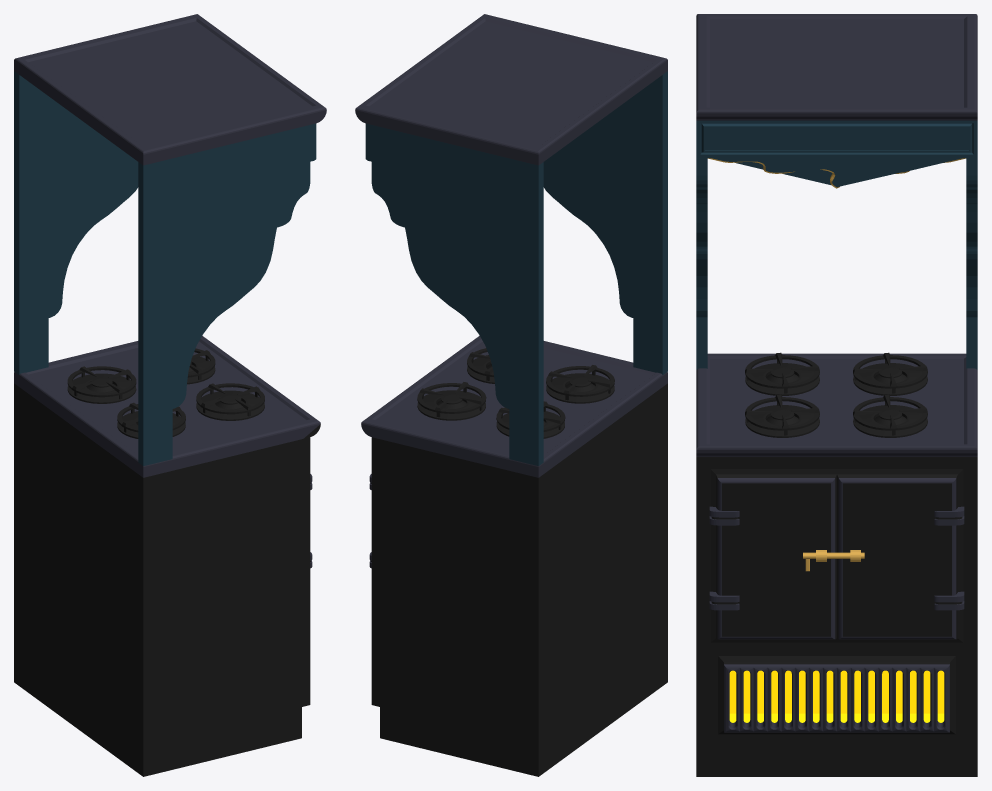
The model's file is KitchenModule_Oven.fbx.
3 views of the same model, side by side, from view 1: azimuth 30°, elevation 25°; view 2: azimuth 150°, elevation 25°; view 3: azimuth 270°, elevation 25° (orthographic). The views are drawn at different scales.
Parts seen in each view (by area): view 1: KitchenModule_Oven, KitchenModule_OvenHood, OvenGrill.003, OvenGrill, OvenGrill.002, OvenGrill.001; view 2: KitchenModule_Oven, KitchenModule_OvenHood, OvenGrill.002, OvenGrill.001, OvenGrill, OvenGrill.003; view 3: KitchenModule_Oven, KitchenModule_OvenHood, FirePlane, OvenGrill.003, OvenGrill.001, OvenGrill.002, OvenGrill, OvenHandle.004, OvenHandle.001, OvenHandle.002, OvenHandle, OvenHandle.003.
Boxes of the visible parts, box(x1,y1,x2,y2) form: KitchenModule_Oven: box(14, 335, 320, 776); KitchenModule_OvenHood: box(14, 14, 326, 465); OvenGrill.003: box(196, 383, 264, 420); OvenGrill: box(67, 366, 136, 403); OvenGrill.002: box(117, 402, 185, 438); OvenGrill.001: box(187, 348, 215, 384); KitchenModule_Oven: box(361, 335, 667, 776); KitchenModule_OvenHood: box(355, 14, 667, 465); OvenGrill.002: box(546, 365, 614, 403); OvenGrill.001: box(417, 382, 486, 420); OvenGrill: box(496, 401, 565, 438); OvenGrill.003: box(467, 348, 494, 383); KitchenModule_Oven: box(696, 353, 977, 776); KitchenModule_OvenHood: box(696, 14, 977, 369); FirePlane: box(729, 670, 944, 722); OvenGrill.003: box(745, 394, 819, 437); OvenGrill.001: box(853, 394, 927, 437); OvenGrill.002: box(745, 352, 819, 395); OvenGrill: box(853, 352, 927, 395); OvenHandle.004: box(803, 550, 864, 571); OvenHandle.001: box(934, 591, 964, 610); OvenHandle.002: box(709, 591, 739, 610); OvenHandle: box(934, 506, 964, 525); OvenHandle.003: box(709, 506, 739, 525).
Bounding box in the file's own units: 123 × 400 × 150.
